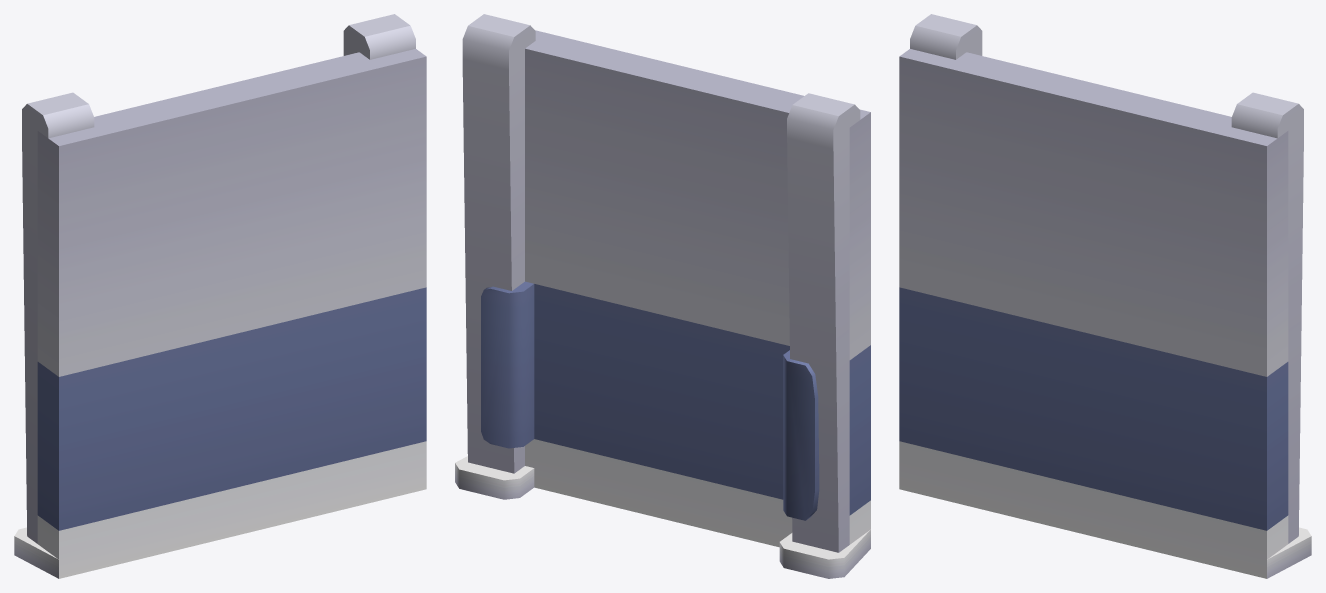
The model's file is template-wall-top.glb.
3 views of the same model, side by side, from view 1: azimuth 30°, elevation 25°; view 2: azimuth 150°, elevation 25°; view 3: azimuth 330°, elevation 25° (orthographic).
Visible parts, largest first — view 1: template-wall-top; view 2: template-wall-top; view 3: template-wall-top.
Boxes of the visible parts, x1,y1,x2,y2 form: template-wall-top: (14, 14, 426, 578); template-wall-top: (455, 14, 870, 578); template-wall-top: (899, 14, 1311, 578).
Bounding box in the file's own units: 4.2 × 4.7 × 0.7751.
Materials: 1 (1 with a texture image).
